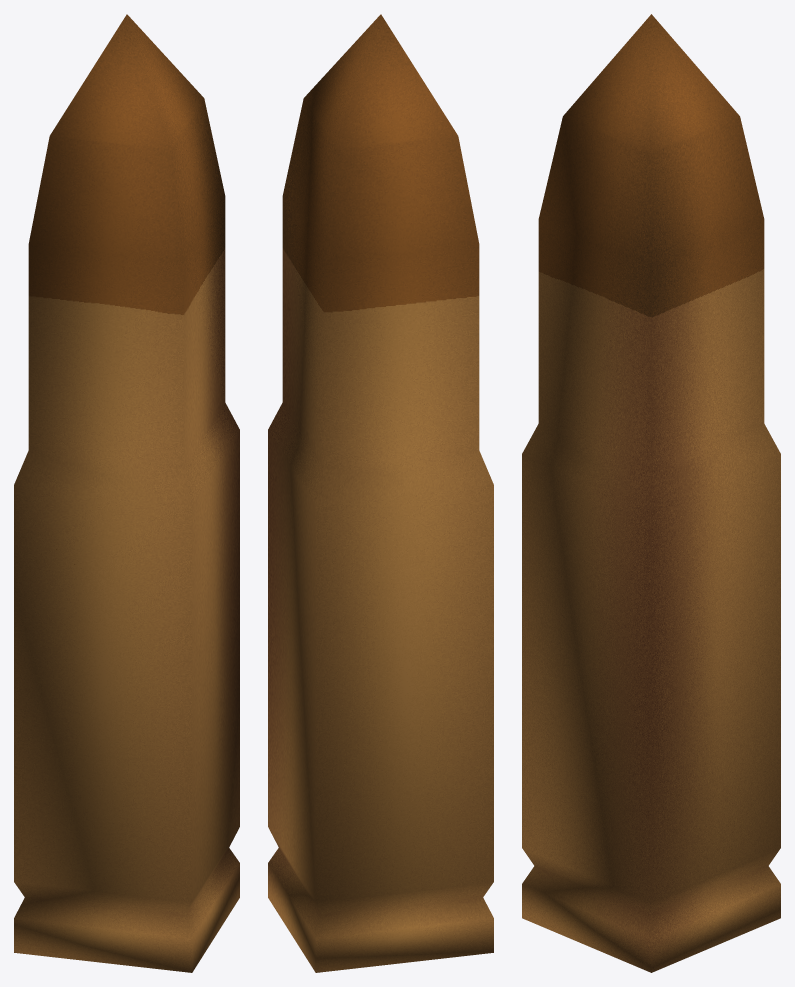
Rendered from ammo_rifle.fbx.
3 renders of one model, left to right at view 1: azimuth 30°, elevation 25°; view 2: azimuth 150°, elevation 25°; view 3: azimuth 270°, elevation 25°, orthographic.
Visible parts, largest first — view 1: Cube; view 2: Cube; view 3: Cube.
Boxes of the visible parts, x1,y1,x2,y2 form: Cube: (14,14,239,972); Cube: (268,14,493,972); Cube: (522,14,780,972).
Bounding box in the file's own units: 55.12 × 212 × 55.12.
1 material, 1 textured.
